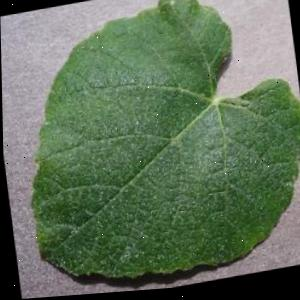Folha: (5, 0, 300, 300)
